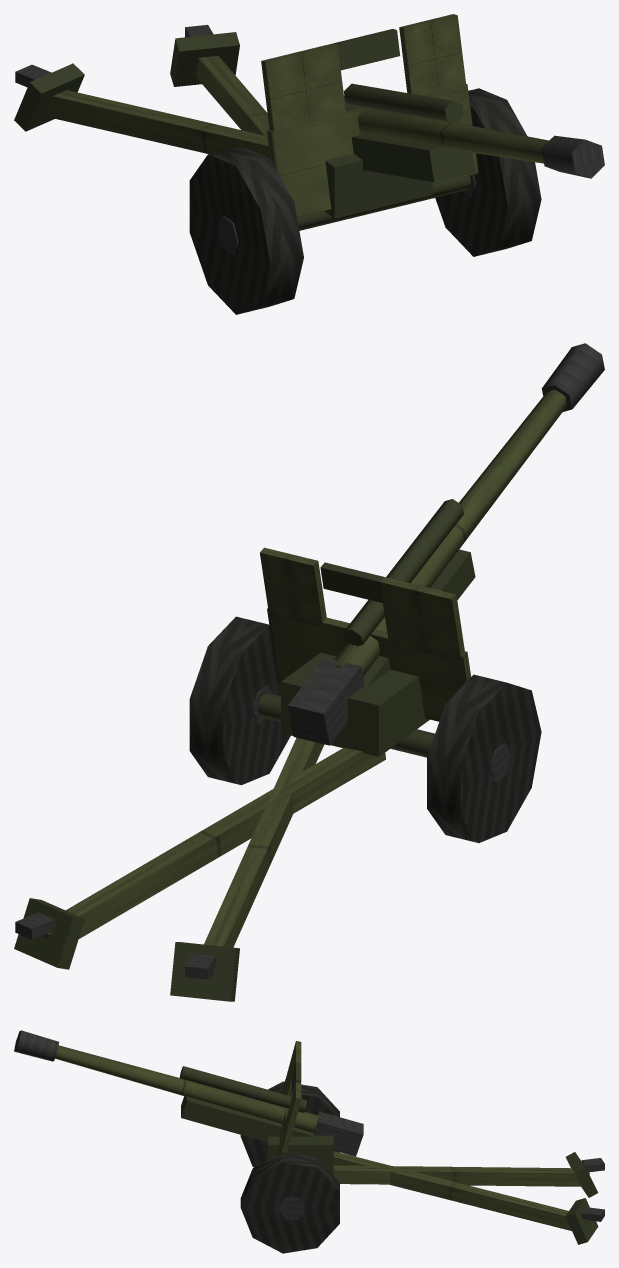
Rendered from howitzer_m30_122mm_lod2.glb.
3 renders of one model, top to bottom at view 1: azimuth 30°, elevation 25°; view 2: azimuth 150°, elevation 25°; view 3: azimuth 270°, elevation 25°, orthographic. The views are drawn at different scales.
Visible parts, largest first — view 1: Howitzer_122mm_M30; view 2: Howitzer_122mm_M30; view 3: Howitzer_122mm_M30.
Part boxes in pixels (<box>): Howitzer_122mm_M30: <box>14,14,604,314</box>; Howitzer_122mm_M30: <box>14,343,604,1001</box>; Howitzer_122mm_M30: <box>14,1030,604,1253</box>.
Size of the model in its own units: 2.12 by 2.22 by 6.48.
4 materials, 3 textured.
